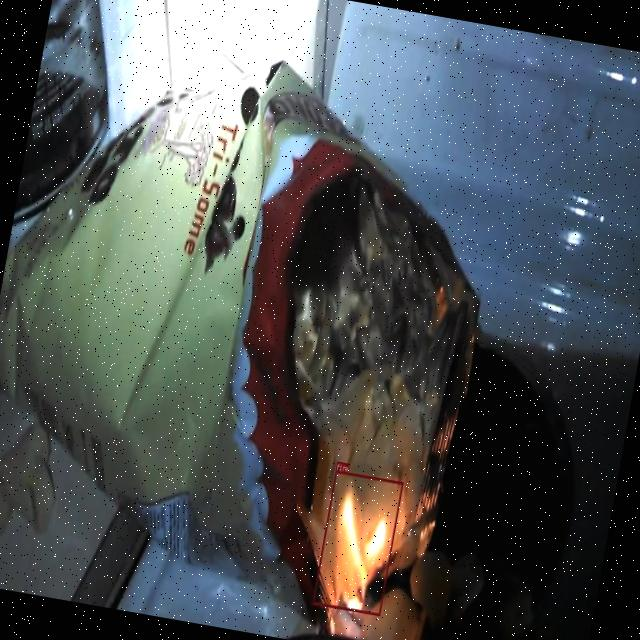fire: (312, 470, 404, 616)
